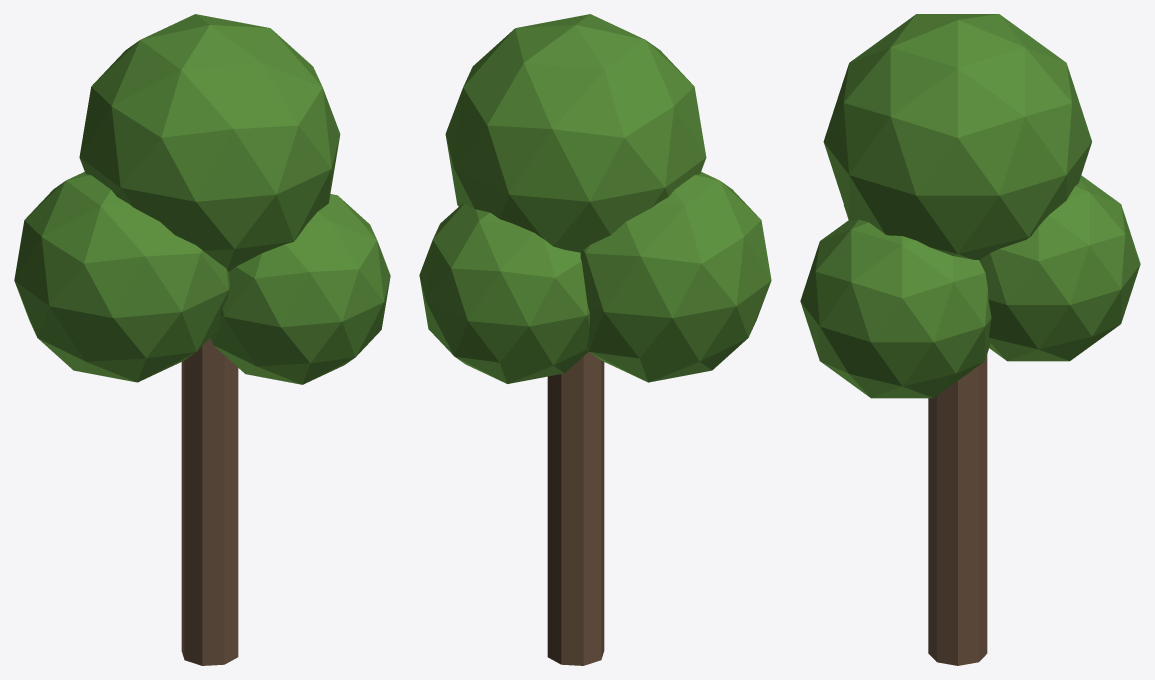
Rendered from tree.glb.
3 views of the same model, side by side, from view 1: azimuth 30°, elevation 25°; view 2: azimuth 150°, elevation 25°; view 3: azimuth 270°, elevation 25° (orthographic).
Parts seen in each view (by area): view 1: Icosphere.003, Icosphere, Icosphere.001, Tree; view 2: Icosphere.003, Icosphere, Icosphere.002, Tree; view 3: Icosphere.003, Icosphere.001, Icosphere.002, Tree.
Boxes of the visible parts, x1,y1,x2,y2 form: Icosphere.003: [79, 14, 340, 271]; Icosphere: [14, 171, 229, 382]; Icosphere.001: [210, 194, 390, 384]; Tree: [181, 338, 238, 665]; Icosphere.003: [445, 14, 706, 252]; Icosphere: [580, 172, 771, 382]; Icosphere.002: [419, 203, 589, 383]; Tree: [547, 352, 604, 665]; Icosphere.003: [823, 14, 1091, 259]; Icosphere.001: [800, 219, 991, 398]; Icosphere.002: [979, 175, 1140, 361]; Tree: [928, 355, 987, 665].
Bounding box in the file's own units: 2.73 × 5.2 × 2.53.
